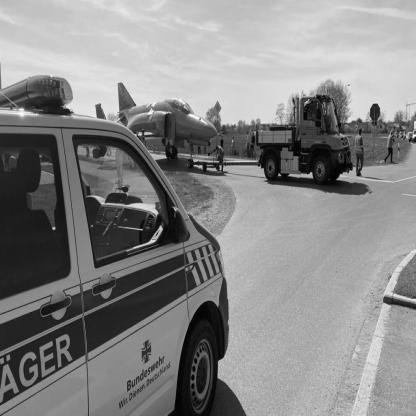F4: (96, 83, 225, 172)
